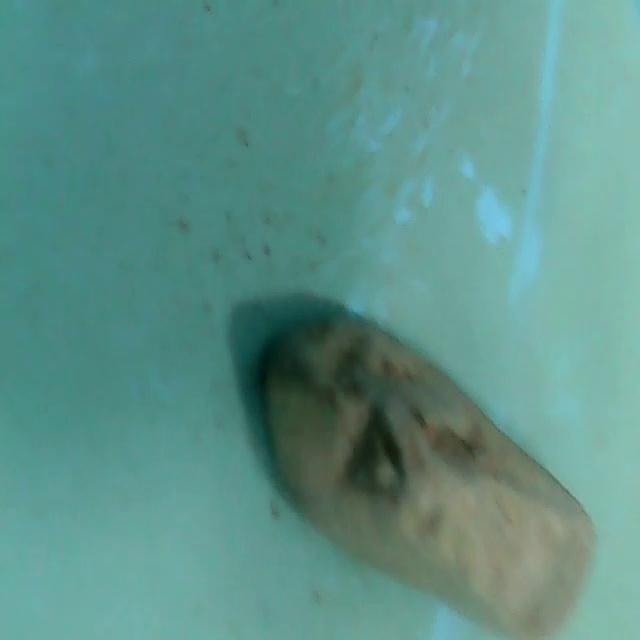rock: (249, 307, 605, 640)
